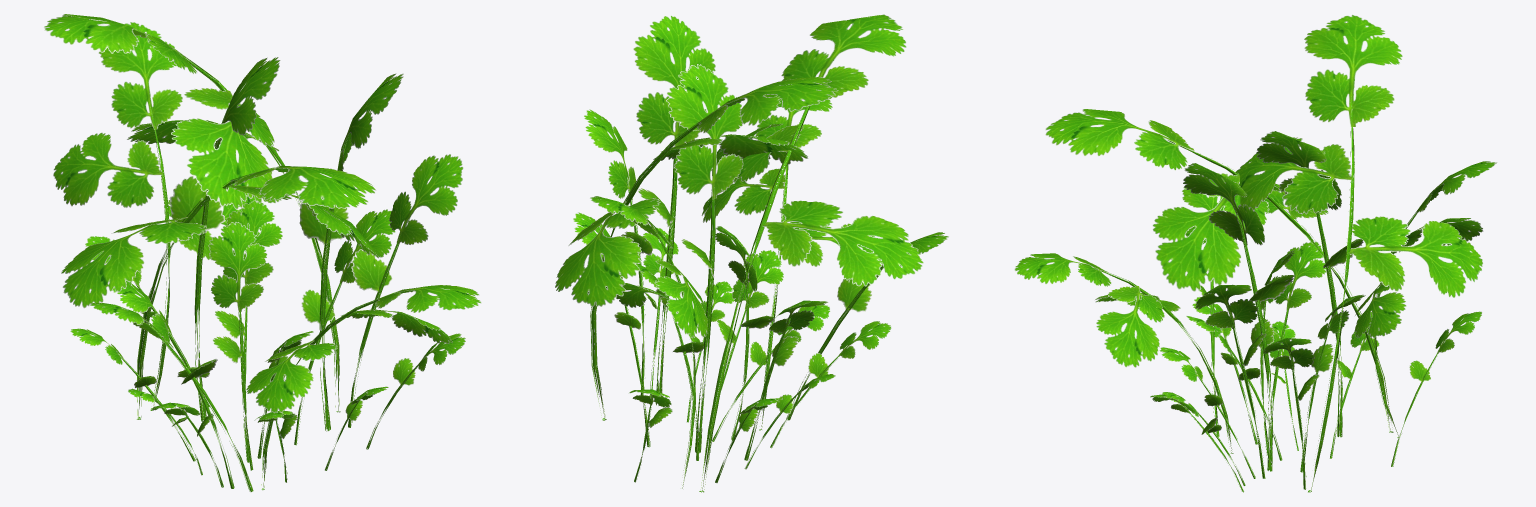
The model's file is coriander.glb.
3 views of the same model, side by side, from view 1: azimuth 30°, elevation 25°; view 2: azimuth 150°, elevation 25°; view 3: azimuth 270°, elevation 25° (orthographic). The views are drawn at different scales.
Parts seen in each view (by area): view 1: Object_8, Object_9; view 2: Object_8, Object_9; view 3: Object_8, Object_9.
Part boxes in pixels (x1,y1,x2,y2): Object_8: (44,14,481,491); Object_9: (134,176,415,438); Object_8: (555,14,948,492); Object_9: (614,188,872,431); Object_8: (1014,14,1497,492); Object_9: (1197,238,1431,434).
Bounding box in the file's own units: 0.3052 × 0.3406 × 0.4073.
Materials: 2 (2 with a texture image).
